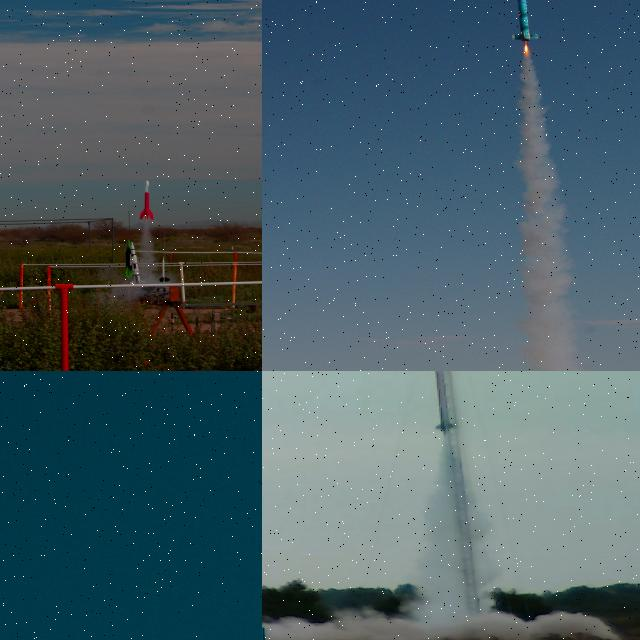Rocket: (433, 371, 457, 433), (511, 0, 539, 42), (129, 242, 146, 285), (139, 180, 154, 220), (159, 256, 171, 283)
